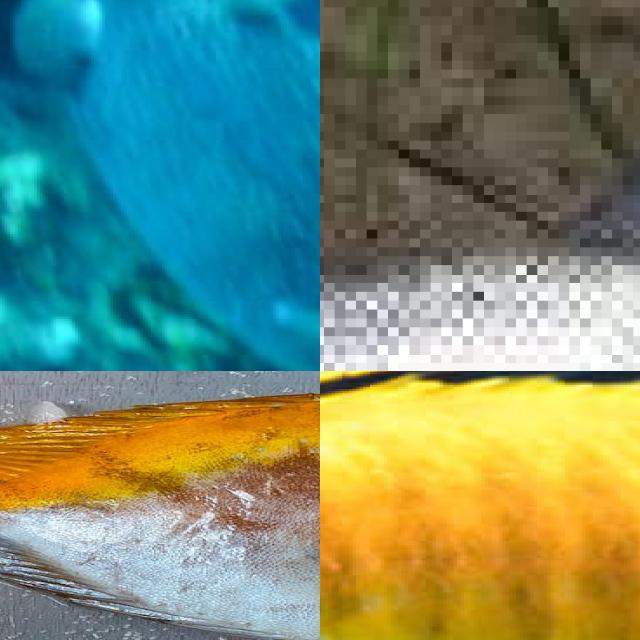fish: (0, 0, 320, 371), (320, 69, 640, 371), (320, 371, 640, 640), (0, 595, 320, 640)
